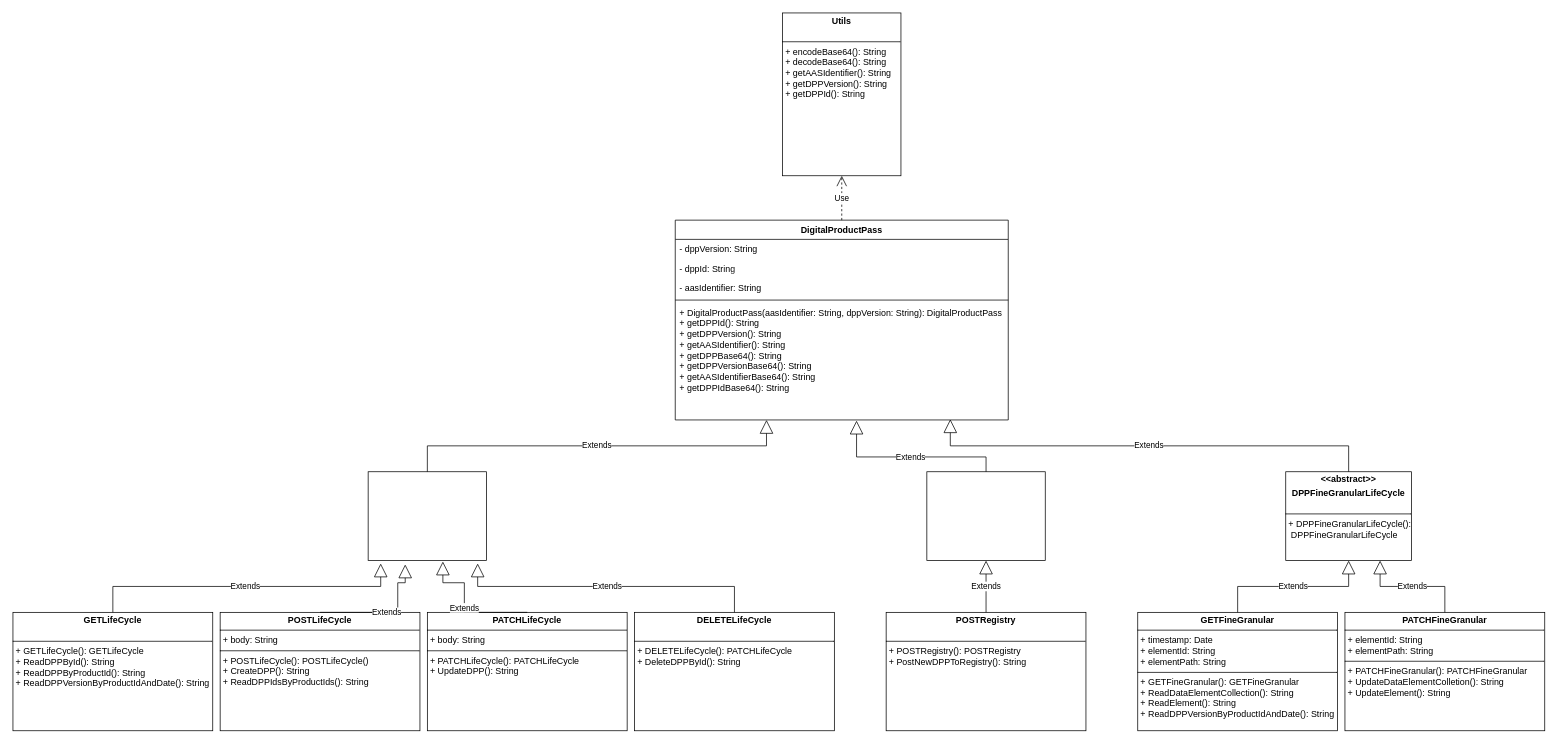
Image size: 1558x744. Some labels were removed from this diagram. The centre of each missing label's shape, as x and y in pixels:
<<abstract>> DPPLifeCycle + DPPLifeCycle(): DPPLifeCycle(): (x=427, y=516)
<<abstract>> DPPRegistry + DPPRegistry(): DPPRegistry: (x=985, y=516)
